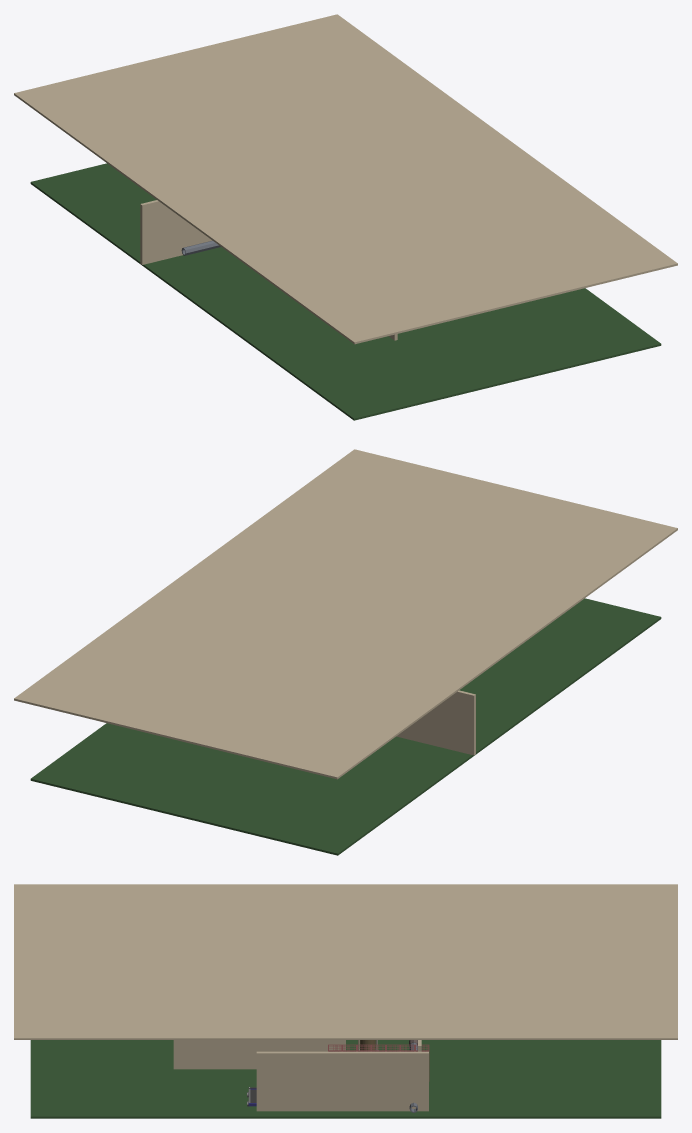
Rendered from ステージ改.fbx.
The picture shows the model from 3 angles, top to bottom: view 1: azimuth 30°, elevation 25°; view 2: azimuth 150°, elevation 25°; view 3: azimuth 270°, elevation 25°; orthographic projection. The views are drawn at different scales.
Visible parts, largest first — view 1: 天井, 床, 壁; view 2: 天井, 床, 壁; view 3: 天井, 床, 右壁.001, 右壁, あみあみ.
Part boxes in pixels (box(x1,y1,x2,y2)): 天井: box(14, 14, 677, 344); 床: box(30, 163, 661, 420); 壁: box(140, 200, 212, 264); 天井: box(14, 449, 677, 779); 床: box(30, 598, 661, 855); 壁: box(396, 690, 475, 755); 天井: box(14, 884, 677, 1039); 床: box(30, 1040, 661, 1118); 右壁.001: box(256, 1051, 428, 1111); 右壁: box(173, 1040, 345, 1069); あみあみ: box(328, 1044, 429, 1081).
Bounding box in the file's own units: 21381 × 5214 × 37214.
